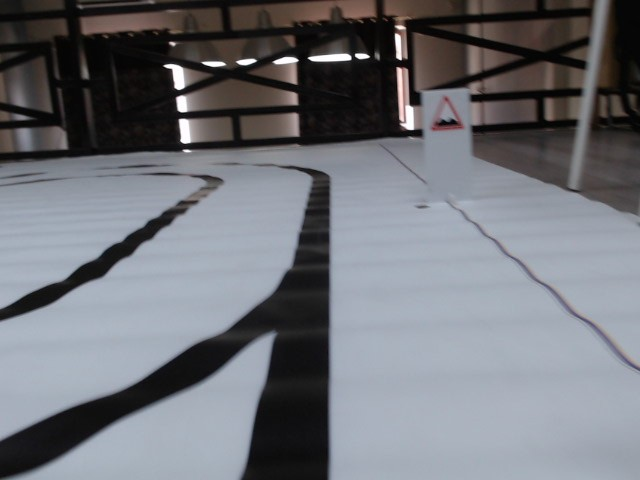Nerov: (429, 96, 464, 132)
